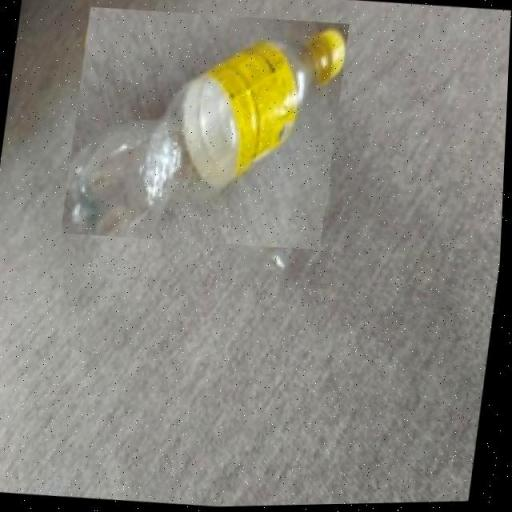plastic: (69, 28, 346, 240)
